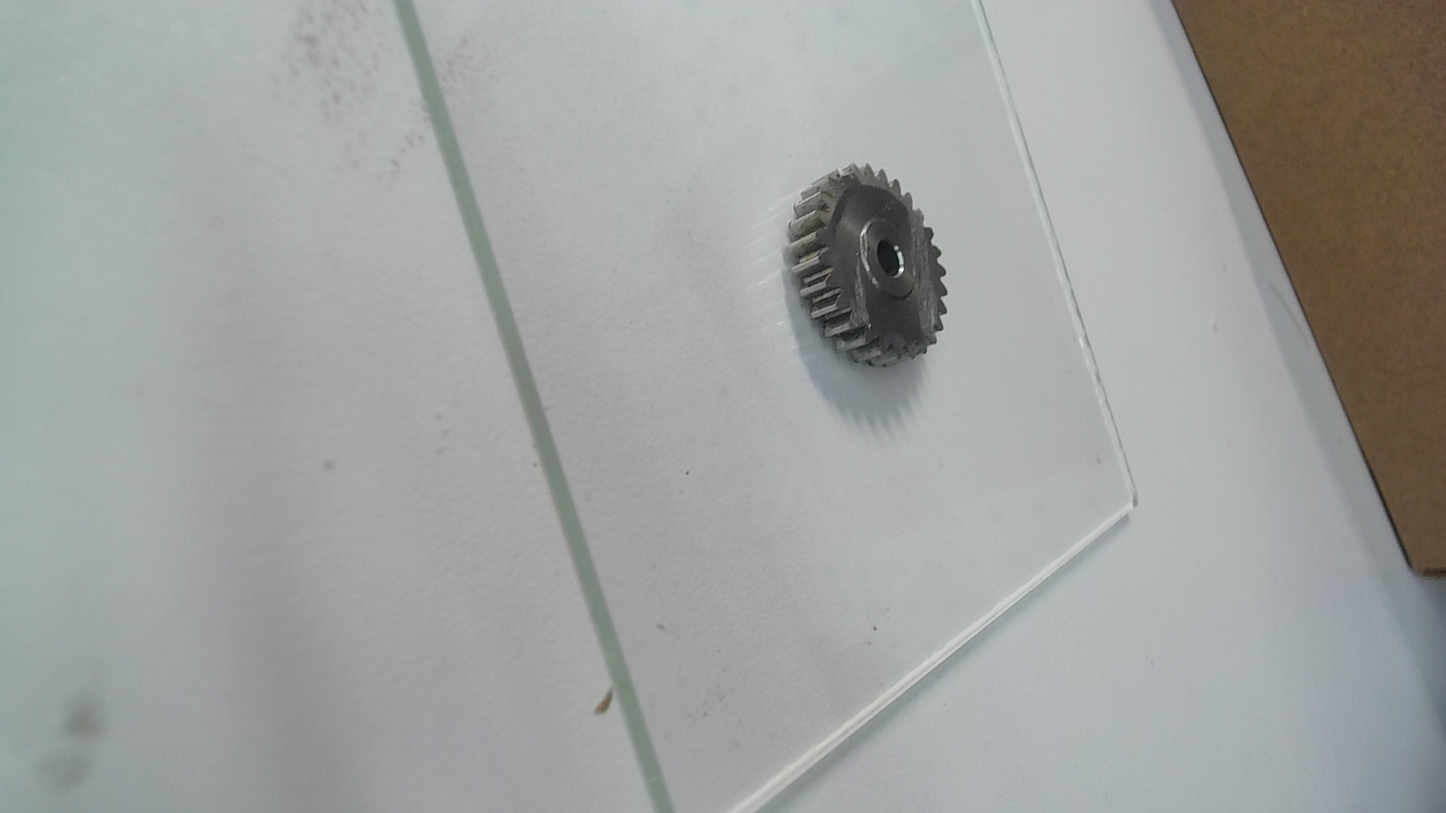gear: (784, 161, 952, 373)
